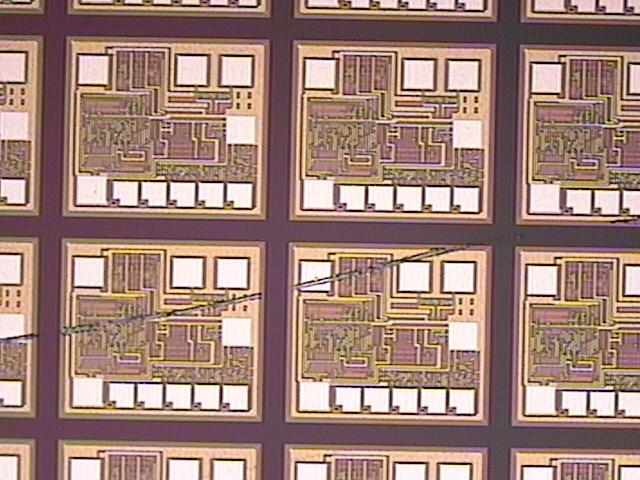SCRATCH: (1, 204, 640, 353)
